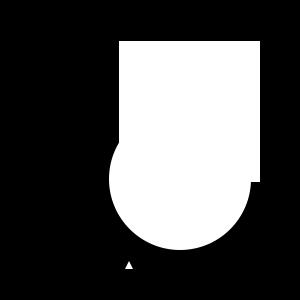circle: (119, 41, 260, 182)
rectangle: (109, 108, 251, 250)
triangle: (146, 65, 239, 158), (135, 108, 198, 171), (125, 261, 133, 269)
